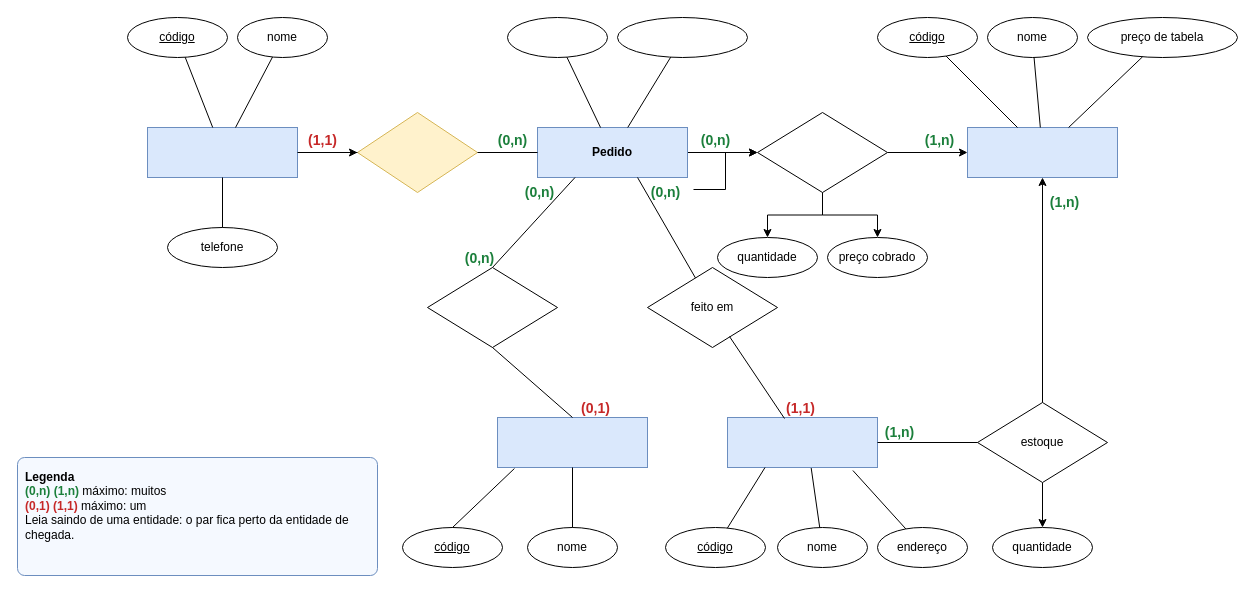
Image size: 1255x593. Some labels were removed from this diagram. Each missing label, with the centre of its shape:
"Cliente" belongs at (x=222, y=152).
"contém" belongs at (x=822, y=152).
"data e hora" belongs at (x=682, y=37).
"entregador" belongs at (x=572, y=442).
"faz" belongs at (x=417, y=152).
"número" belongs at (x=557, y=37).
"Produto" belongs at (x=1042, y=152).
"realiza" belongs at (x=492, y=307).
"unidade" belongs at (x=802, y=442).
